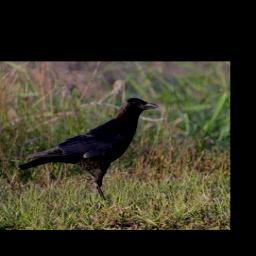Crow: (17, 96, 160, 204)
